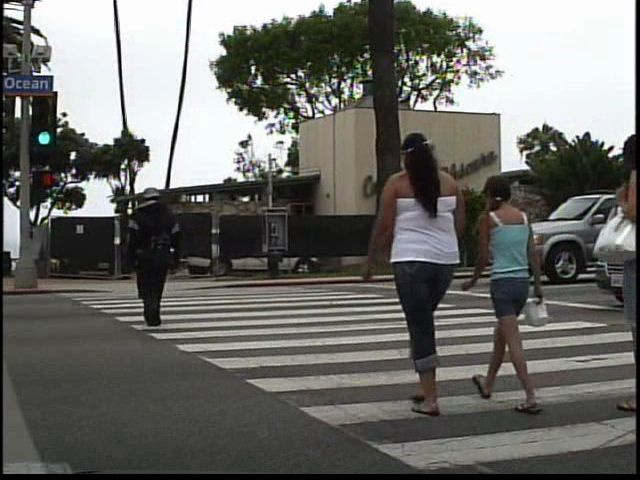person: (369, 125, 481, 423), (483, 166, 556, 424), (120, 177, 186, 337)
